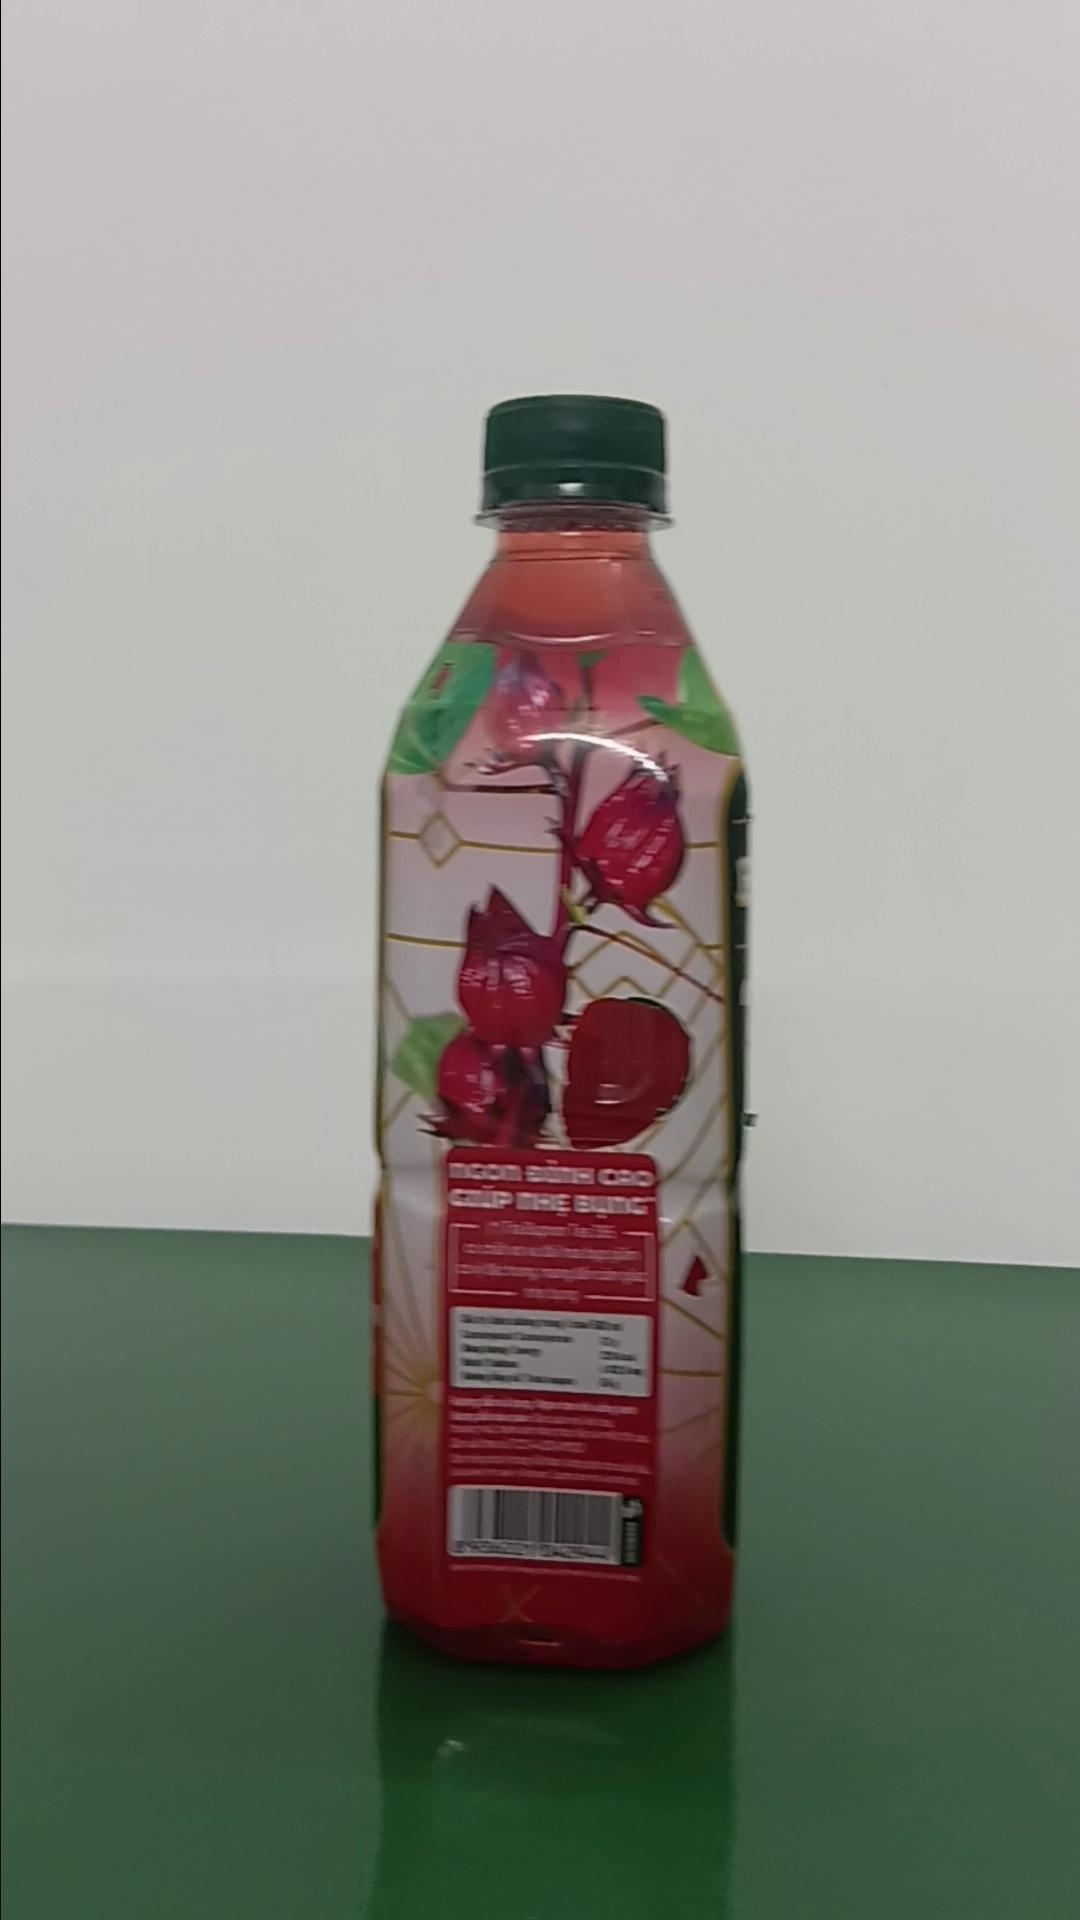loi rach va lap chai: (372, 386, 750, 1687)
